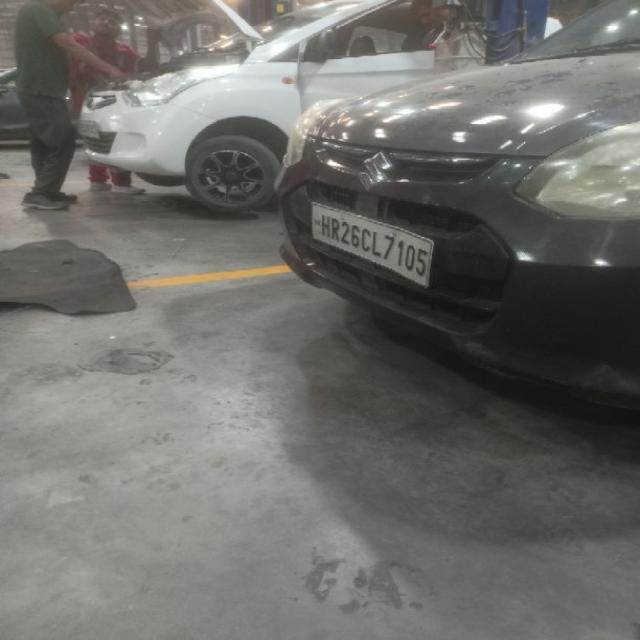license_plate: (307, 201, 434, 289)
